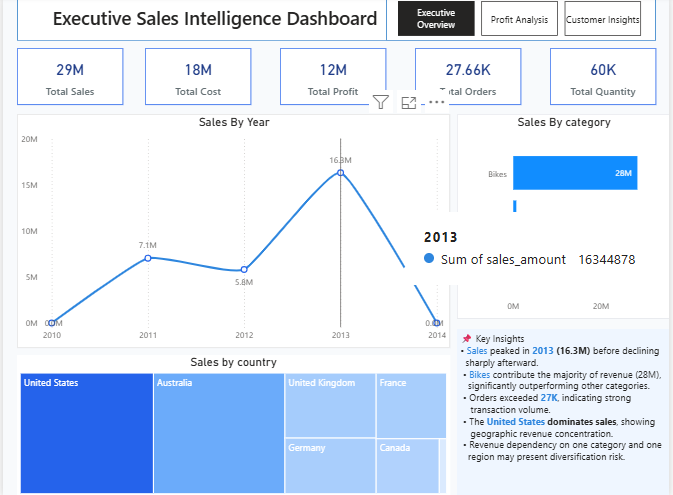

Layout of this report page (visuals, bound fields, positions):
{"tool":"powerbi","page":{"name":"Executive Overview","canvas":[960,720],"ordinal":0},"visuals":[{"type":"shape","box":[551.5,0,388.8,63.4],"z":0,"group":"g1"},{"type":"card","fields":{"Values":["_measures.Total Sales"]},"box":[20.2,73.4,152.6,82.1],"z":0},{"type":"pageNavigator","box":[568.8,5.8,352.8,50.4],"z":1000,"group":"g1"},{"type":"card","fields":{"Values":["_measures.Total Cost"]},"box":[204.5,73.4,152.6,82.1],"z":1000},{"type":"card","fields":{"Values":["_measures.Total Profit"]},"box":[398.9,73.4,152.6,82.1],"z":2000},{"type":"card","fields":{"Values":["Count(gold fact_sales.order_number)"]},"box":[593.3,73.4,152.6,82.1],"z":3000},{"type":"card","fields":{"Values":["Sum(gold fact_sales.quantity)"]},"box":[787.7,73.4,152.6,82.1],"z":4000},{"type":"lineChart","title":"Sales By Year","fields":{"Category":["gold fact_sales.order_date.Variation.Date Hierarchy.Year"],"Y":["Sum(gold fact_sales.sales_amount)"]},"box":[20.2,168.5,623.5,337],"z":5000},{"type":"barChart","title":"Sales By category","fields":{"Category":["gold dim_products.category"],"Y":["Sum(gold fact_sales.sales_amount)"]},"box":[653.8,168.5,306.7,295.2],"z":6000},{"type":"textbox","box":[653.8,478.1,306.7,241.9],"z":7000},{"type":"treemap","fields":{"Group":["gold dim_customers.country"],"Values":["Sum(gold fact_sales.sales_amount)"]},"box":[20.2,515.5,623.5,204.5],"z":8000},{"type":"shape","box":[20.2,0,920.2,63.4],"z":9000},{"type":"textbox","box":[66.2,5.8,531.4,50.4],"z":10000},{"type":"group","id":"g1","title":"Group 1","box":[551.5,0,388.8,63.4],"z":11000}]}

Visuals, with their boxes in screenshot pixels (x1, y1, x2, y2), scaled from the page's 960x720 canvas onto the 673x495 screenshot:
shape: detection(387, 0, 659, 44)
card - _measures.Total Sales: detection(14, 50, 121, 107)
pageNavigator: detection(399, 4, 646, 39)
card - _measures.Total Cost: detection(143, 50, 250, 107)
card - _measures.Total Profit: detection(280, 50, 387, 107)
card - Count(gold fact_sales.order_number): detection(416, 50, 523, 107)
card - Sum(gold fact_sales.quantity): detection(552, 50, 659, 107)
"Sales By Year" lineChart: detection(14, 116, 451, 348)
"Sales By category" barChart: detection(458, 116, 672, 319)
textbox: detection(458, 329, 672, 494)
treemap - gold dim_customers.country x Sum(gold fact_sales.sales_amount): detection(14, 354, 451, 494)
shape: detection(14, 0, 659, 44)
textbox: detection(46, 4, 419, 39)
"Group 1" group: detection(387, 0, 659, 44)
